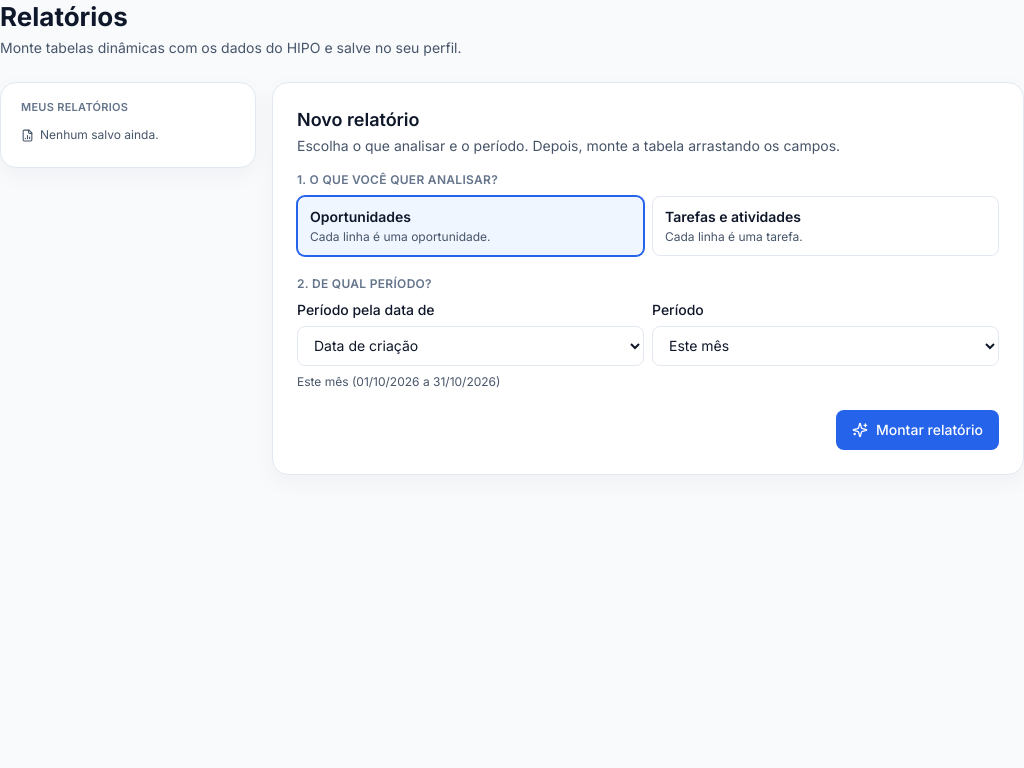
Test: Relatórios — montagem e consulta › adicionar Fase nas linhas recalcula e desenha uma linha por fase
Click the button "Montar relatório".
click(918, 430)  # box x1=836 y1=410 x2=999 y2=450
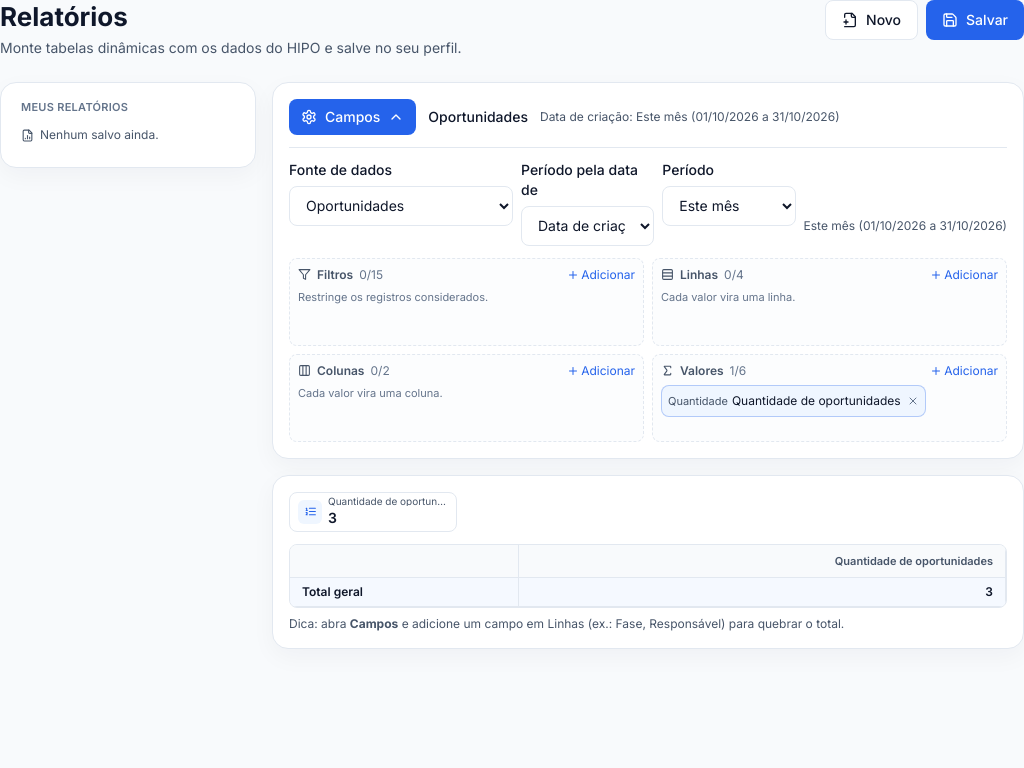
Result: the element with test id "tabela-dinamica" is shown at x1=289 y1=544 x2=1007 y2=608
Click the button with aria-label "Adicionar em Linhas".
click(964, 275)  # box x1=930 y1=267 x2=998 y2=283
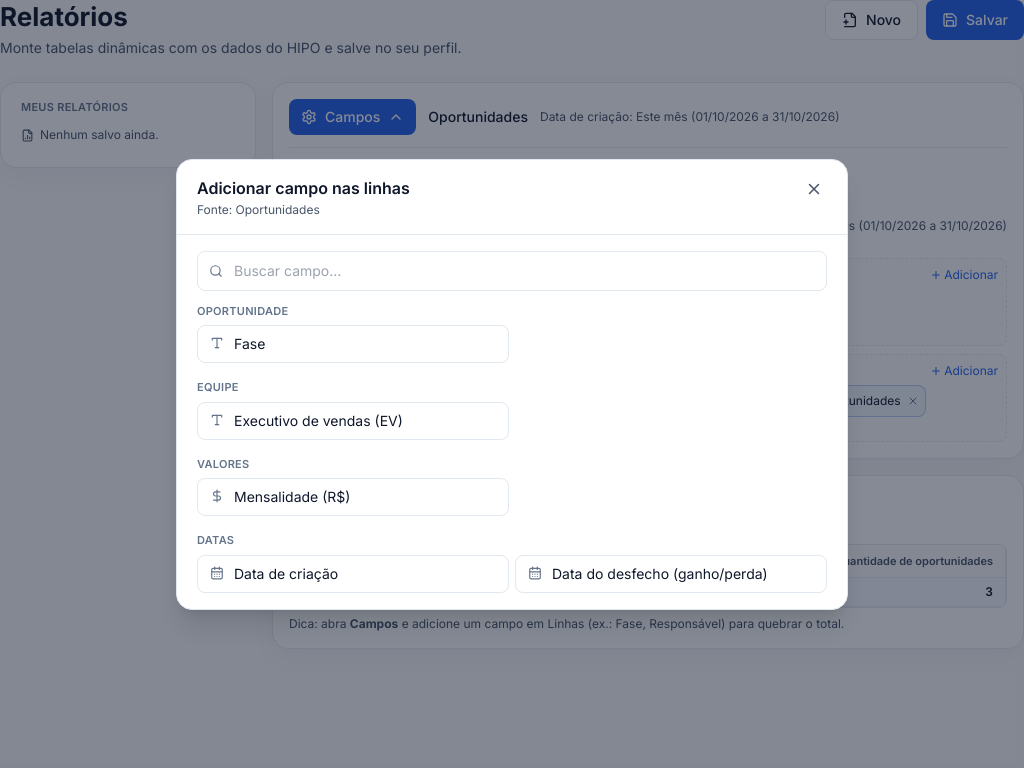
Click the button "Fase".
click(250, 344)  # box x1=197 y1=325 x2=509 y2=363
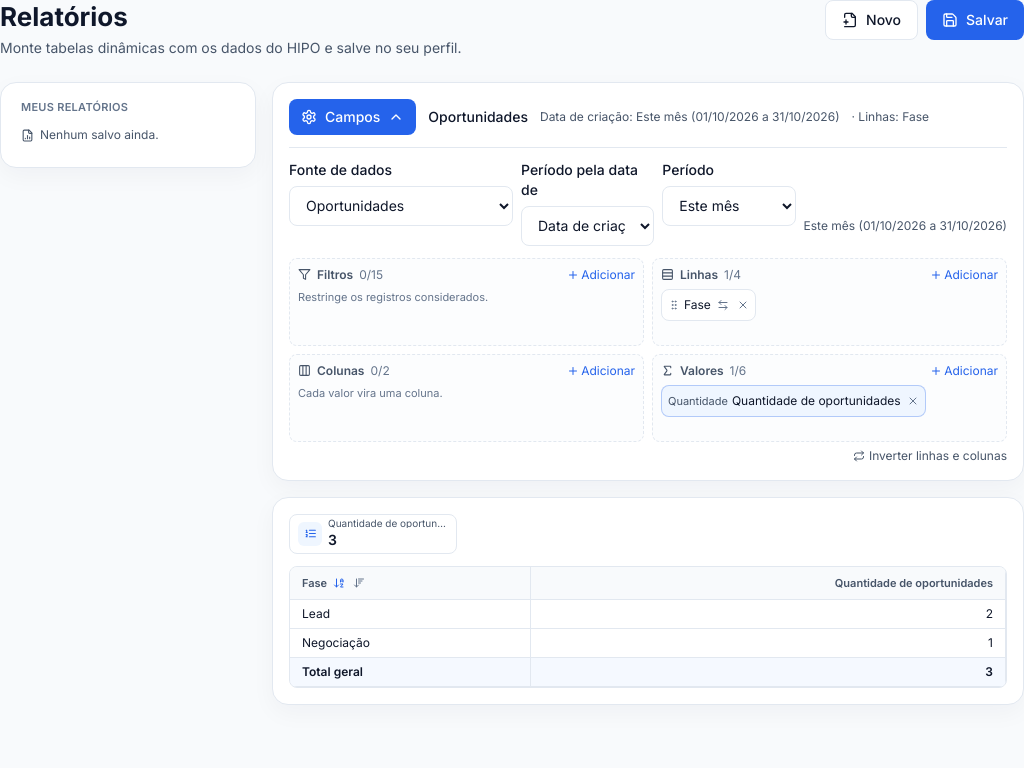
Result: the text "Total geral" is shown at x1=290 y1=658 x2=531 y2=687
Result: the text "Lead" is shown at x1=290 y1=600 x2=531 y2=629
Result: the text "Negociação" is shown at x1=290 y1=629 x2=531 y2=658
